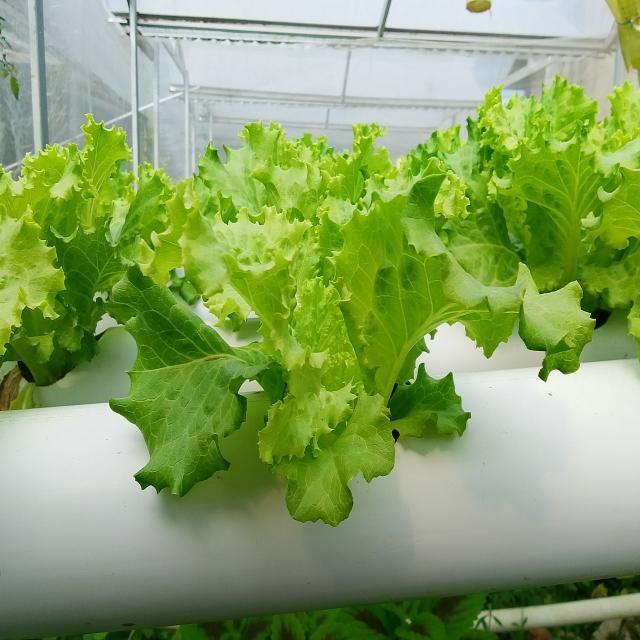Baby: (110, 123, 529, 525)
